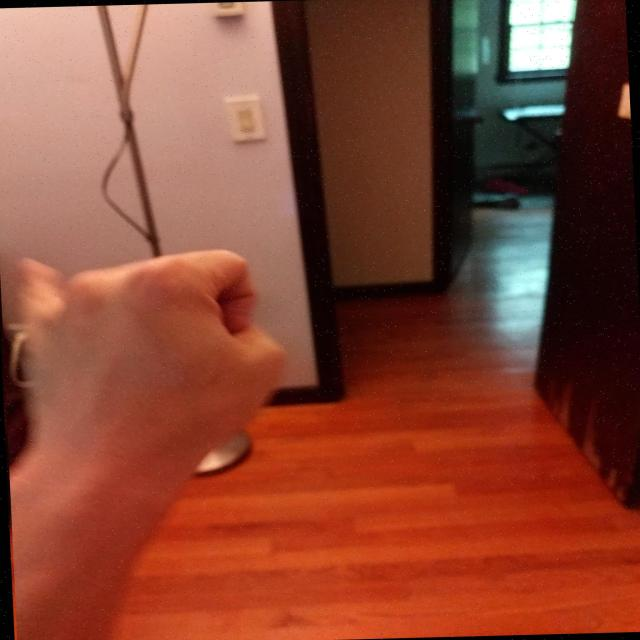J: (0, 238, 310, 462)
